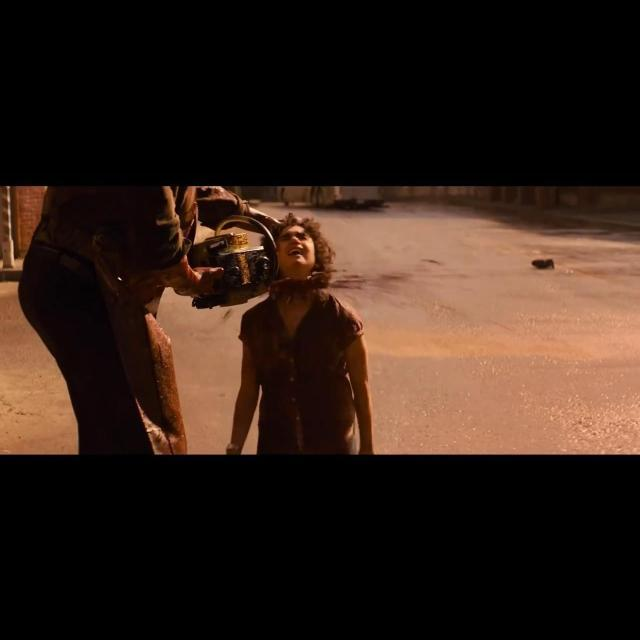blood: (146, 320, 187, 454), (276, 270, 450, 296), (224, 234, 272, 294), (178, 190, 245, 230), (156, 261, 212, 296)
